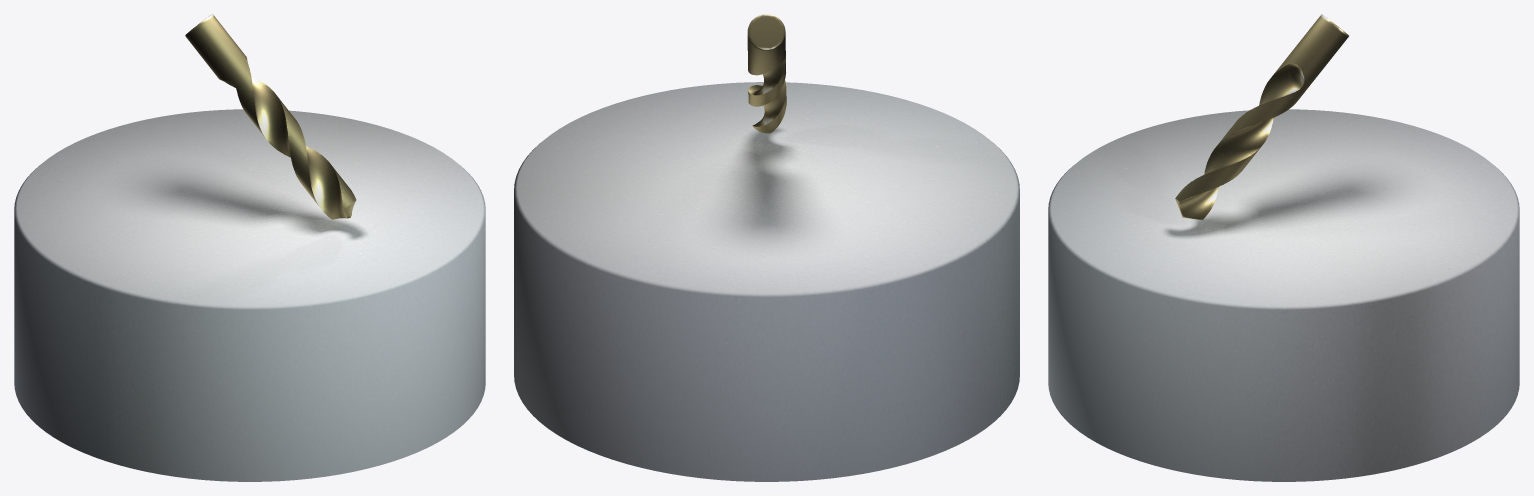
Rendered from drillbit.glb.
3 renders of one model, left to right at view 1: azimuth 30°, elevation 25°; view 2: azimuth 150°, elevation 25°; view 3: azimuth 270°, elevation 25°, orthographic. The views are drawn at different scales.
Visible parts, largest first — view 1: Plane, 6mmDrillbit_3; view 2: Plane, 6mmDrillbit_3; view 3: Plane, 6mmDrillbit_3.
Boxes of the visible parts, bbox=[...] form: Plane: bbox=[14, 109, 485, 481]; 6mmDrillbit_3: bbox=[185, 14, 356, 219]; Plane: bbox=[514, 82, 1019, 481]; 6mmDrillbit_3: bbox=[747, 14, 786, 133]; Plane: bbox=[1048, 109, 1519, 481]; 6mmDrillbit_3: bbox=[1175, 14, 1348, 220].
Size of the model in its own units: 0.8 by 0.6671 by 0.8.
Materials: 2 (2 with a texture image).
